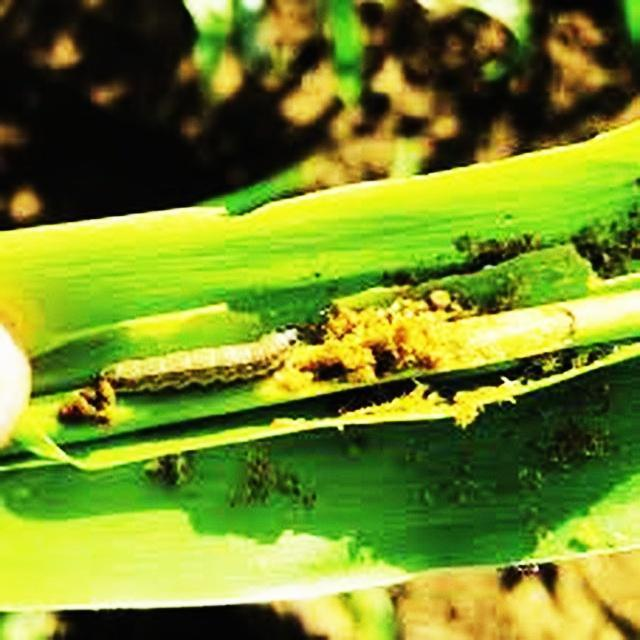gusano_cogollero: (86, 324, 300, 398)
